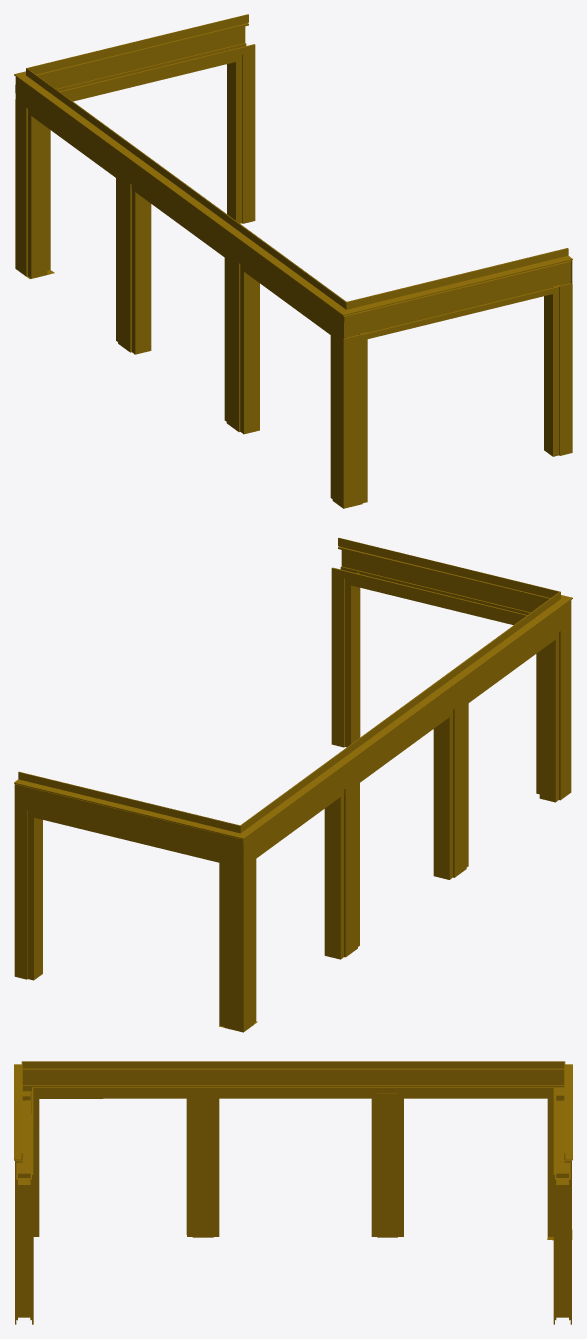
The model's file is Frame.obj.
3 renders of one model, top to bottom at view 1: azimuth 30°, elevation 25°; view 2: azimuth 150°, elevation 25°; view 3: azimuth 270°, elevation 25°, orthographic. The views are drawn at different scales.
Parts seen in each view (by area): view 1: object_2, object_3, object_1; view 2: object_2, object_3, object_1, Bad_faces; view 3: object_3, object_2, object_1.
Boxes of the visible parts, x1,y1,x2,y2 form: object_2: (15,49,572,508); object_3: (15,23,572,339); object_1: (14,14,572,315); object_2: (14,571,571,1032); object_3: (14,546,571,863); object_1: (14,538,572,839); Bad_faces: (345,578,518,625); object_3: (15,1068,571,1186); object_2: (15,1087,572,1324); object_1: (14,1061,572,1160).
Bounding box in the file's own units: 9.67 × 8.11 × 23.96.
